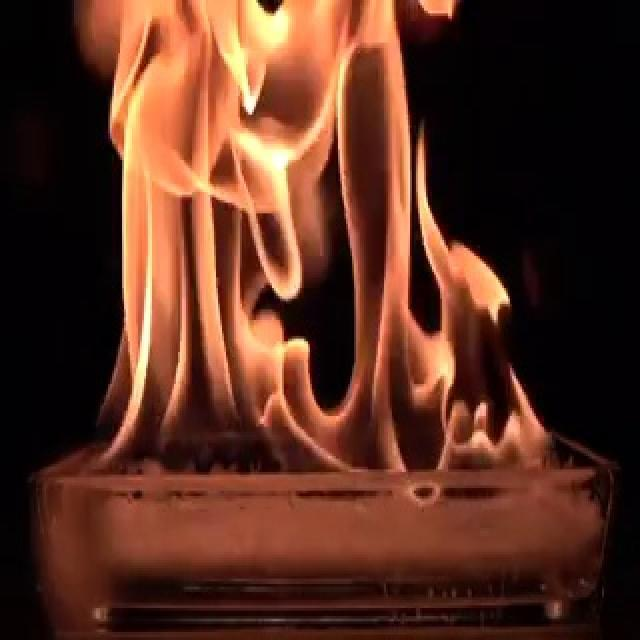Fire: (83, 1, 553, 474)
